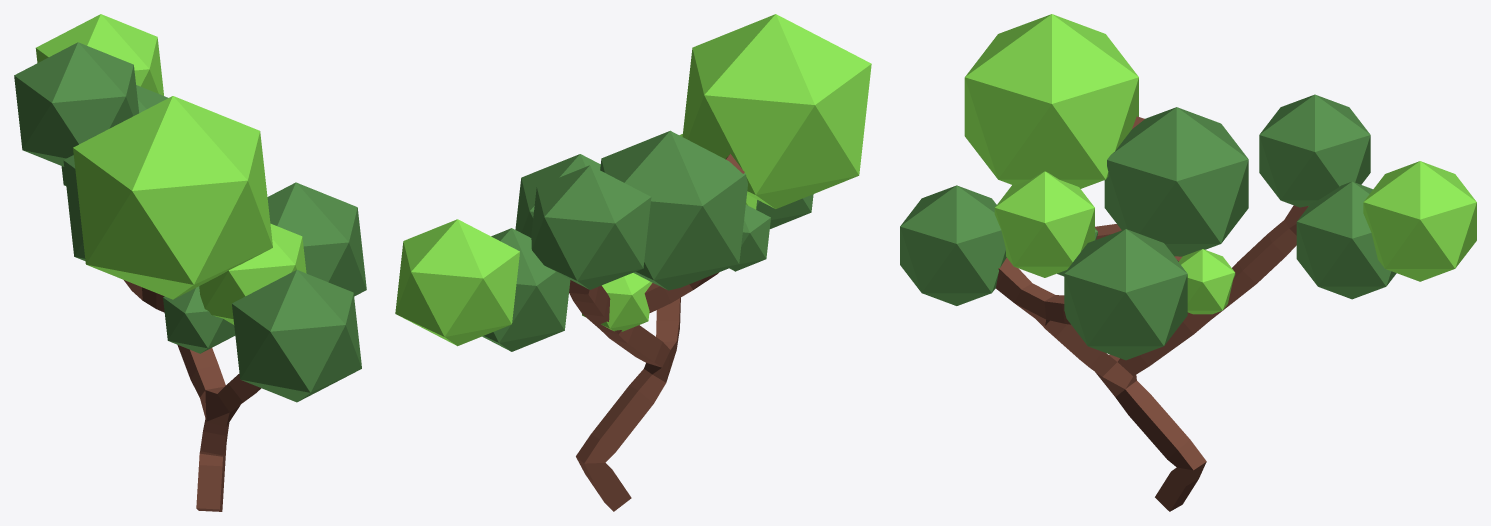
The model's file is rareboom.fbx.
The picture shows the model from 3 angles, left to right: view 1: azimuth 30°, elevation 25°; view 2: azimuth 150°, elevation 25°; view 3: azimuth 270°, elevation 25°; orthographic projection. The views are drawn at different scales.
Visible parts, largest first — view 1: Cube; view 2: Cube; view 3: Cube.
Boxes of the visible parts, bbox=[...] form: Cube: bbox=[14, 14, 366, 511]; Cube: bbox=[395, 14, 871, 511]; Cube: bbox=[900, 14, 1476, 511].
Size of the model in its own units: 758 by 1139 by 1331.
